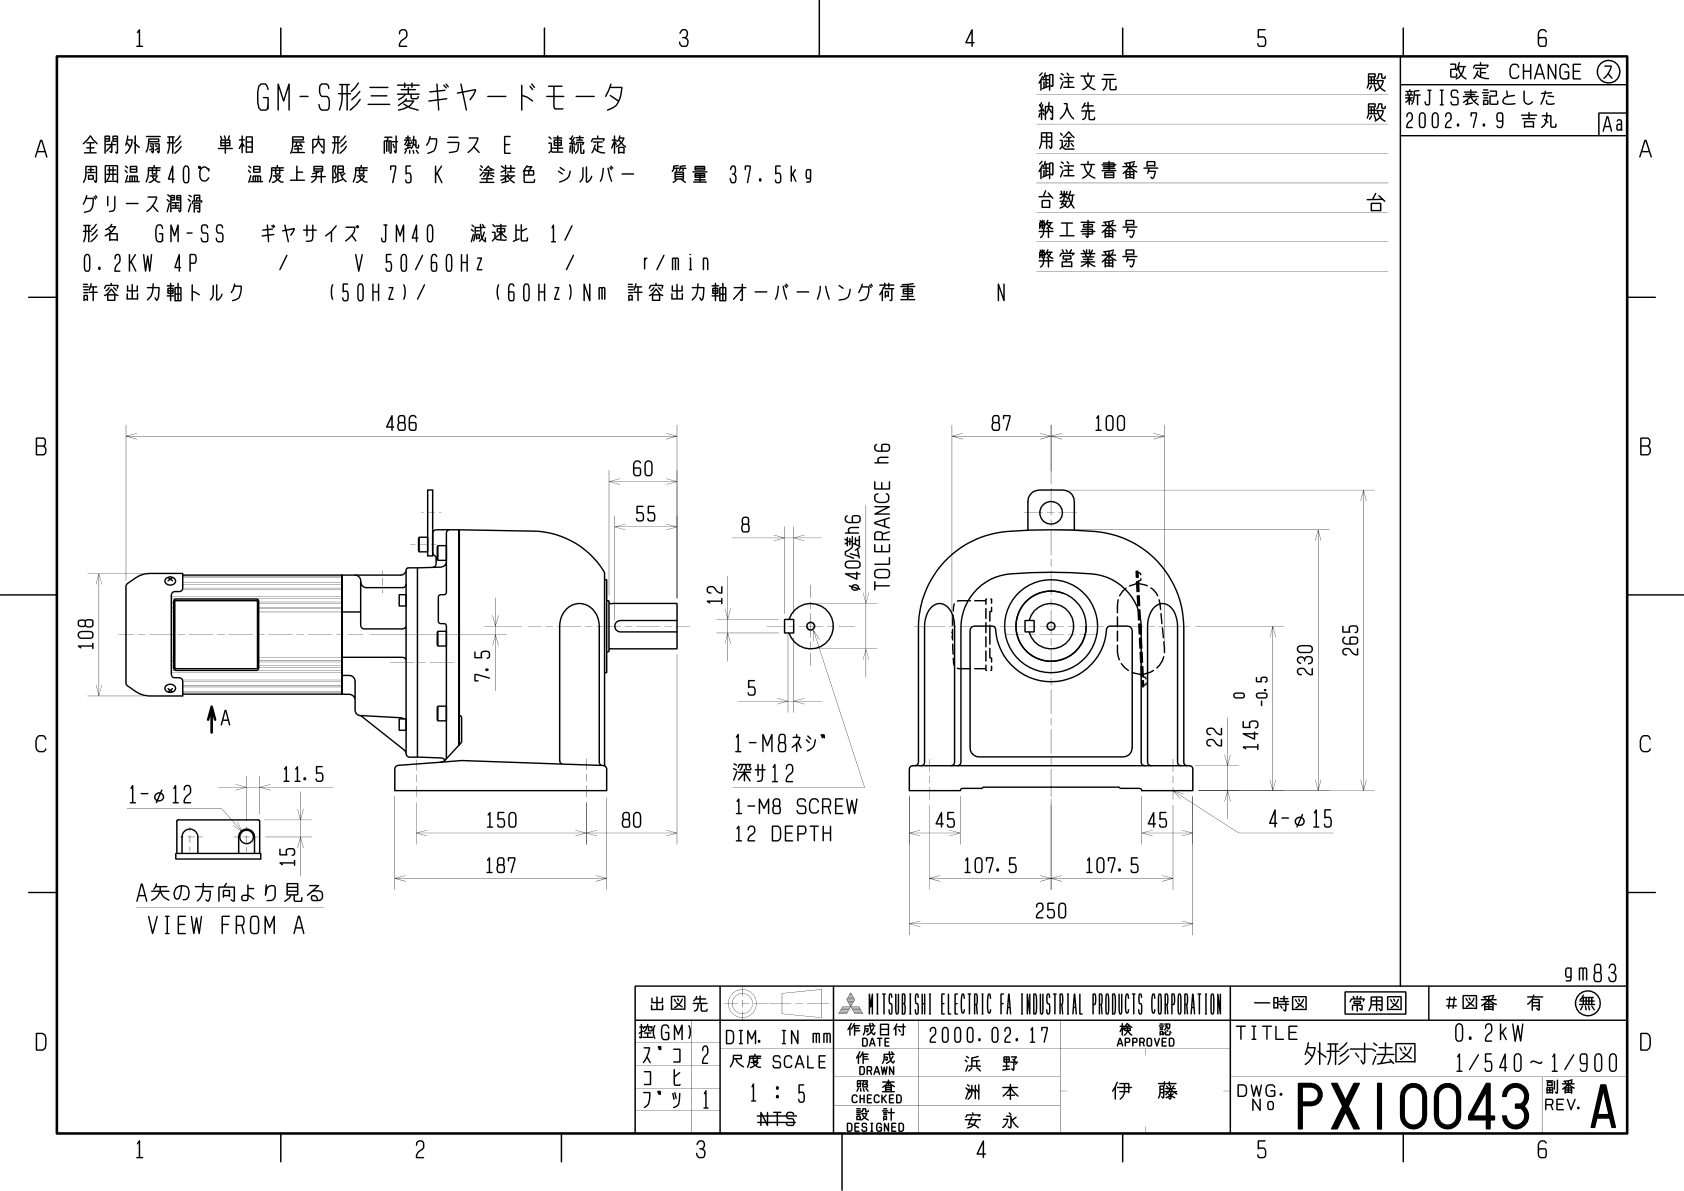GM_S_屋内＿三相_脚: (64, 363, 1389, 955)
